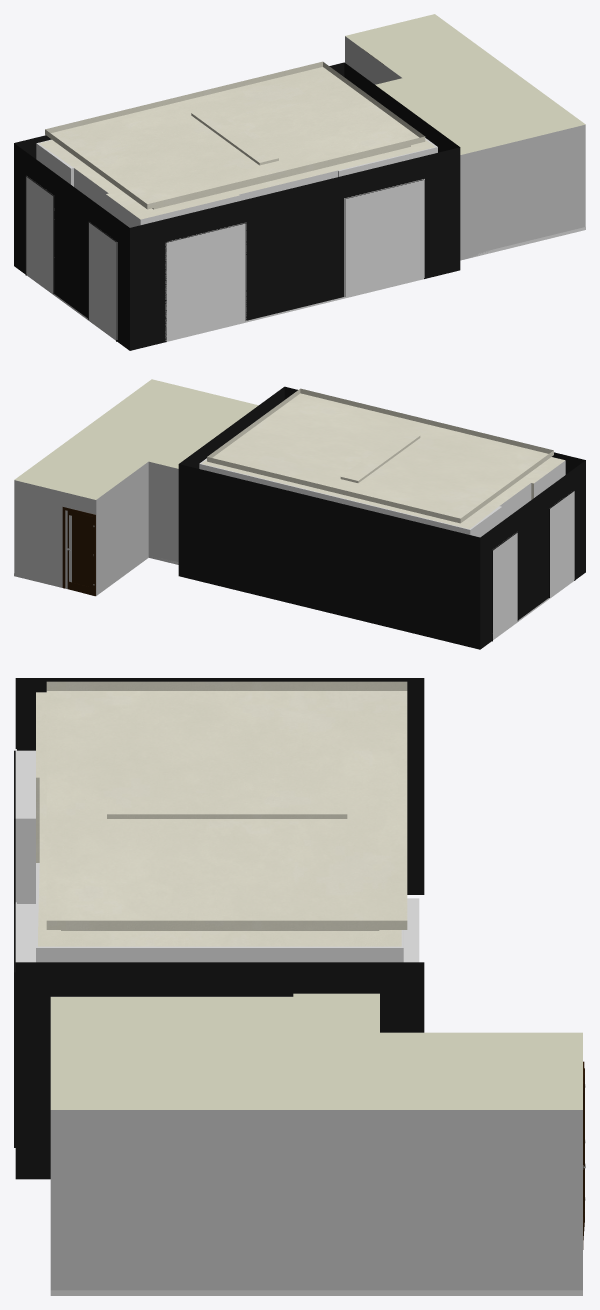
The model's file is sala_coworking.fbx.
The picture shows the model from 3 angles, top to bottom: view 1: azimuth 30°, elevation 25°; view 2: azimuth 150°, elevation 25°; view 3: azimuth 270°, elevation 25°; orthographic projection. The views are drawn at different scales.
Parts seen in each view (by area): view 1: Outside Walls, Ceiling, Windows, Main Room.002, Main Room, Inside Walls; view 2: Outside Walls, Ceiling, Main Room, Main Room.002, Inside Walls, Windows, ramiak_przy.001, framuga_ramiak.001; view 3: Main Room, Ceiling, Main Room.002, Outside Walls, Inside Walls, Floor thing, Floor.
Part boxes in pixels (x1,y1,x2,y2): Outside Walls: [14, 62, 460, 350]; Ceiling: [45, 61, 425, 209]; Windows: [26, 177, 423, 339]; Main Room.002: [345, 14, 585, 154]; Main Room: [345, 36, 585, 260]; Inside Walls: [26, 138, 437, 341]; Outside Walls: [178, 386, 585, 649]; Ceiling: [207, 388, 553, 523]; Main Room: [14, 461, 178, 595]; Main Room.002: [14, 379, 258, 499]; Inside Walls: [199, 457, 574, 639]; Windows: [493, 491, 574, 638]; ramiak_przy.001: [67, 511, 94, 595]; framuga_ramiak.001: [62, 507, 95, 596]; Main Room: [50, 996, 582, 1290]; Ceiling: [46, 681, 407, 929]; Main Room.002: [50, 993, 582, 1109]; Outside Walls: [14, 678, 424, 1179]; Inside Walls: [15, 692, 403, 962]; Floor thing: [50, 1290, 582, 1295]; Floor: [404, 898, 419, 962].
Size of the model in its own units: 1590 by 436 by 956.
